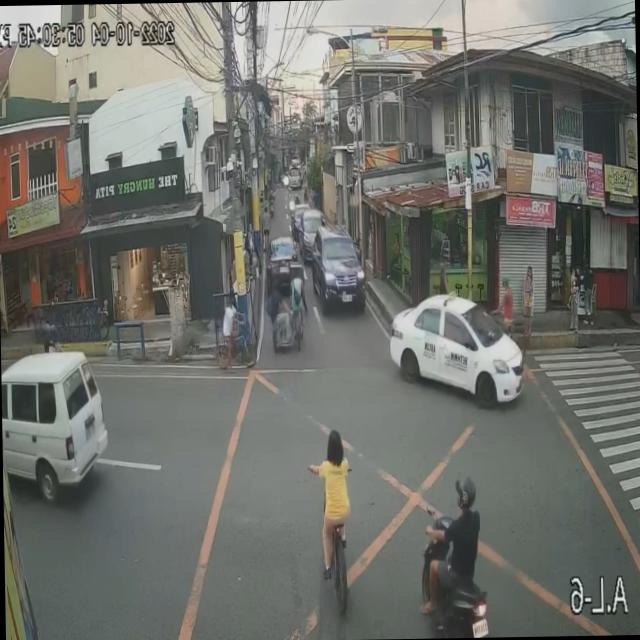half: (454, 474, 476, 509)
